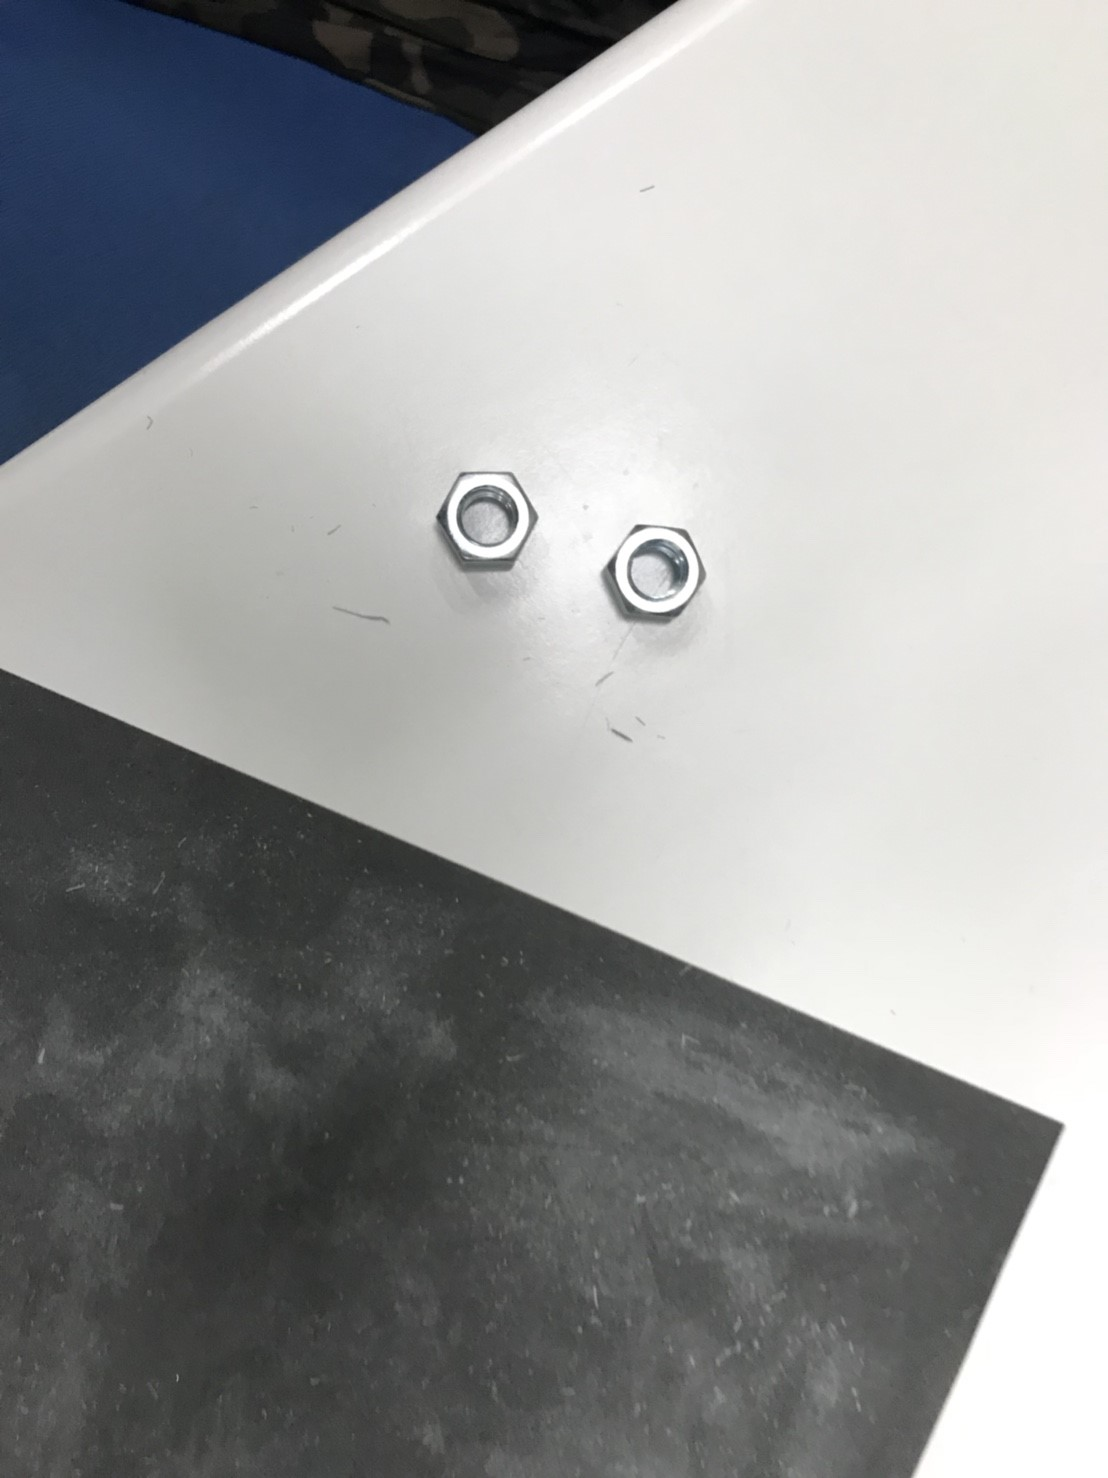nut: (601, 517, 711, 625), (434, 461, 539, 573)
